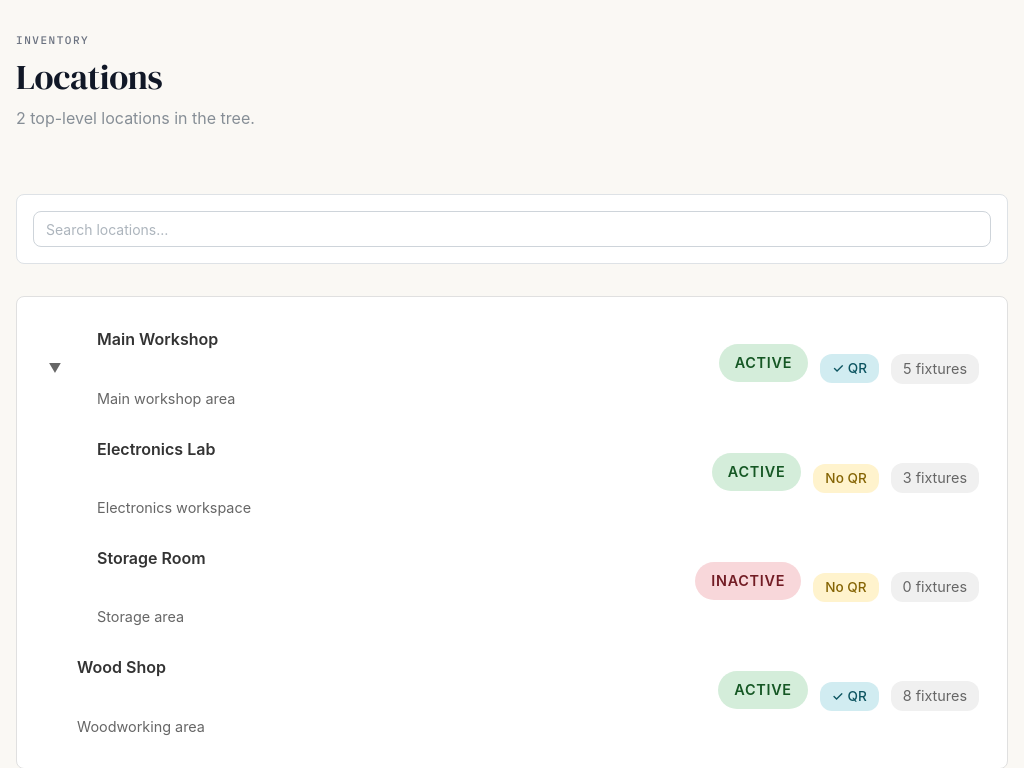
LocationListPage › filters locations by search term
The image size is (1024, 768).
Expected: the text "Main Workshop" is shown, x1=97 y1=329 x2=218 y2=349
Type "Electronics" into the field with placeholder "Search locations…" at (512, 229), box x1=33 y1=211 x2=991 y2=247
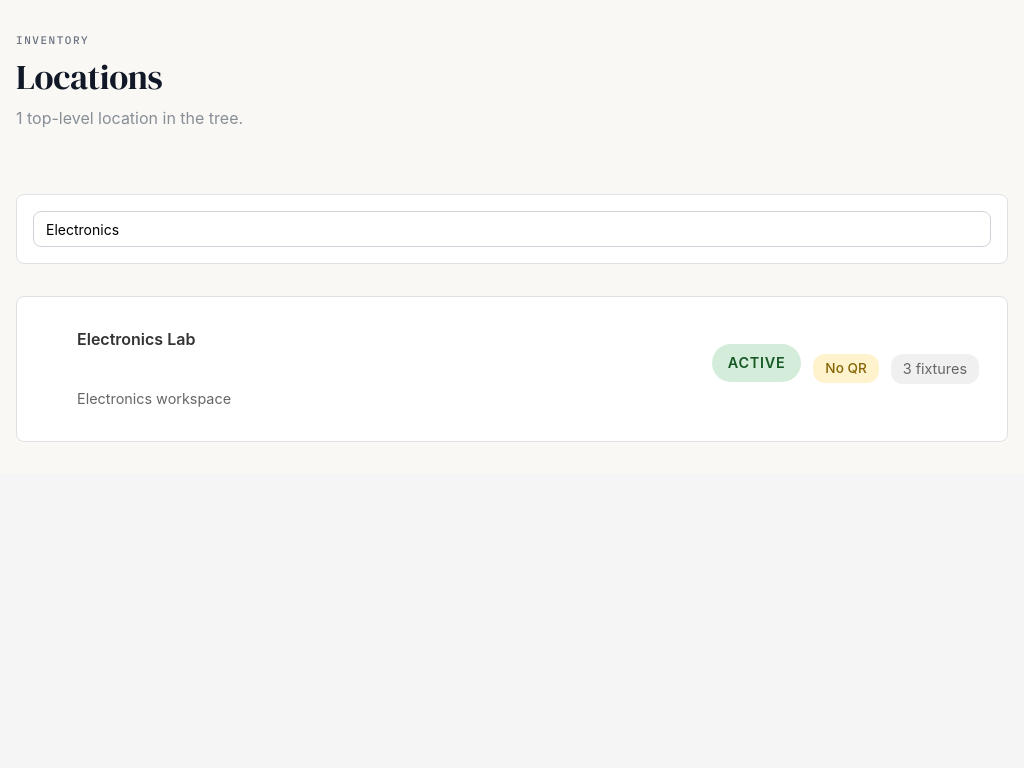
Expected: the text "Electronics Lab" is shown, x1=77 y1=329 x2=195 y2=349
Expected: the text "Main Workshop" is gone
